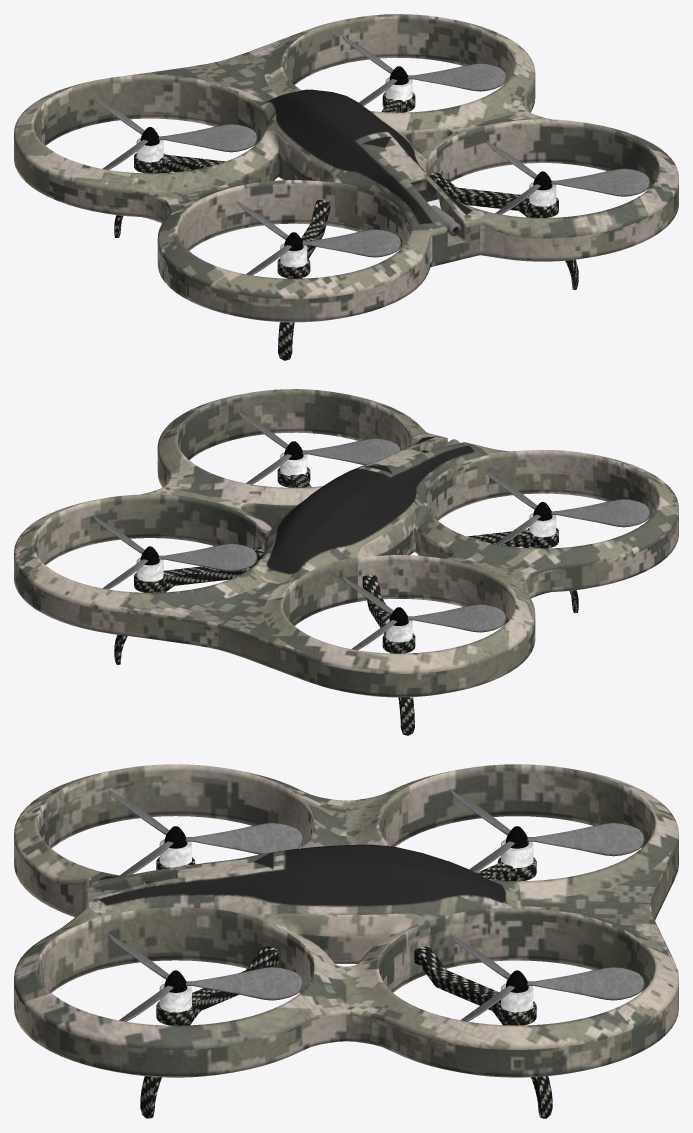
Rendered from QuadCopter.fbx.
3 views of the same model, one above another, from view 1: azimuth 30°, elevation 25°; view 2: azimuth 150°, elevation 25°; view 3: azimuth 270°, elevation 25° (orthographic). The views are drawn at different scales.
Visible parts, largest first — view 1: Body, PropFL, PropRR, PropFR, PropRL; view 2: Body, PropRL, PropFR, PropRR, PropFL; view 3: Body, PropFL, PropRL, PropRR, PropFR.
Boxes of the visible parts, <box> form: Body: <box>14,14,678,360</box>; PropFL: <box>486,140,650,214</box>; PropRR: <box>93,96,257,169</box>; PropFR: <box>237,201,401,275</box>; PropRL: <box>342,35,506,105</box>; Body: <box>14,389,678,735</box>; PropRL: <box>93,515,257,589</box>; PropFR: <box>486,471,649,544</box>; PropRR: <box>342,576,506,650</box>; PropFL: <box>237,410,400,484</box>; Body: <box>14,764,678,1118</box>; PropFL: <box>108,934,303,1021</box>; PropRL: <box>449,934,644,1021</box>; PropRR: <box>450,790,644,872</box>; PropFR: <box>108,789,303,875</box>.
Size of the model in its own units: 409 by 122 by 409.
